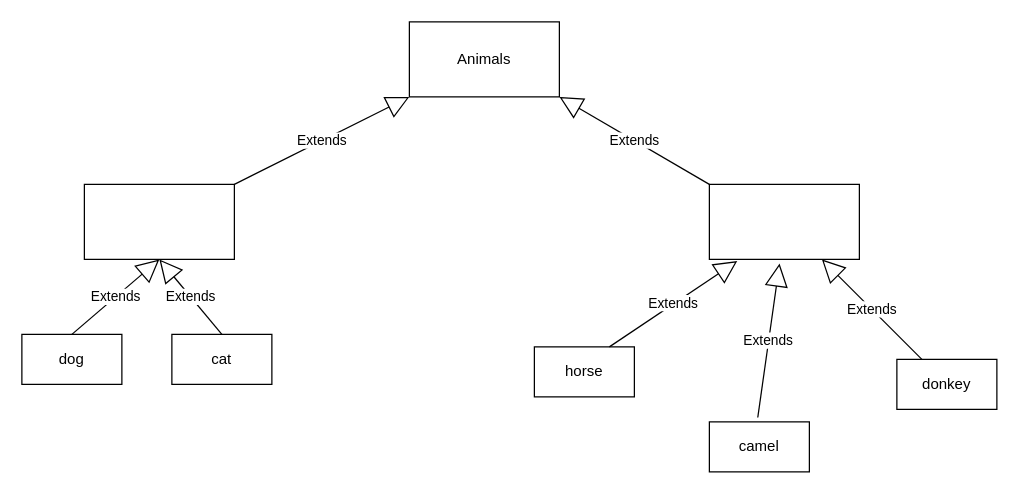
Some shapes in this 1019 by 494 pixel diagram are drawn without their labels. Each missing label, with the centre of its shape:
"homeAnimals" goes at point (158, 221).
"packAnimals" goes at point (783, 221).
